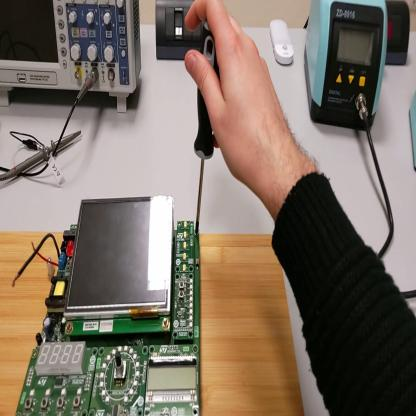hand: (184, 2, 291, 192)
low voltage board: (14, 196, 202, 416)
oscilloscope: (2, 1, 144, 113)
oscilloscope probe tip: (2, 129, 82, 181)
screwdriver-: (194, 22, 220, 235)
socket: (385, 1, 412, 67)
welder base: (408, 91, 416, 169)
welder station: (304, 3, 388, 134)
working area: (2, 231, 305, 416)
